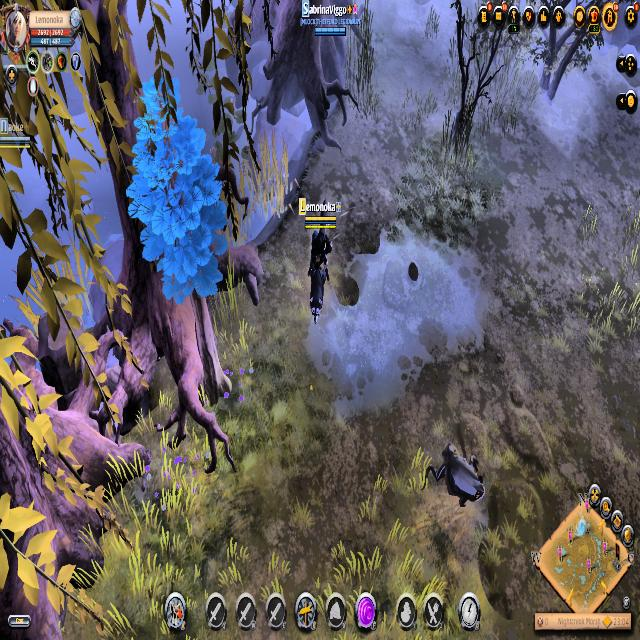wood tier 4: (126, 73, 228, 310)
